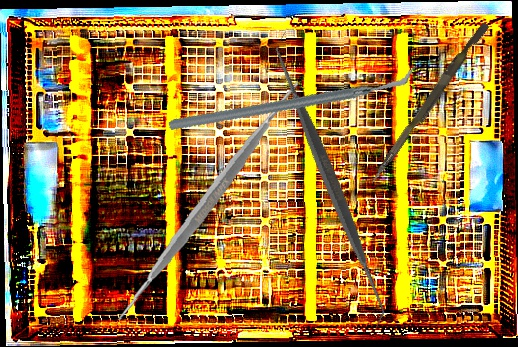Chopper: (166, 15, 419, 182)
Pusher: (369, 19, 490, 188)
Spatula Surgical: (181, 33, 479, 329), (87, 80, 328, 322)
